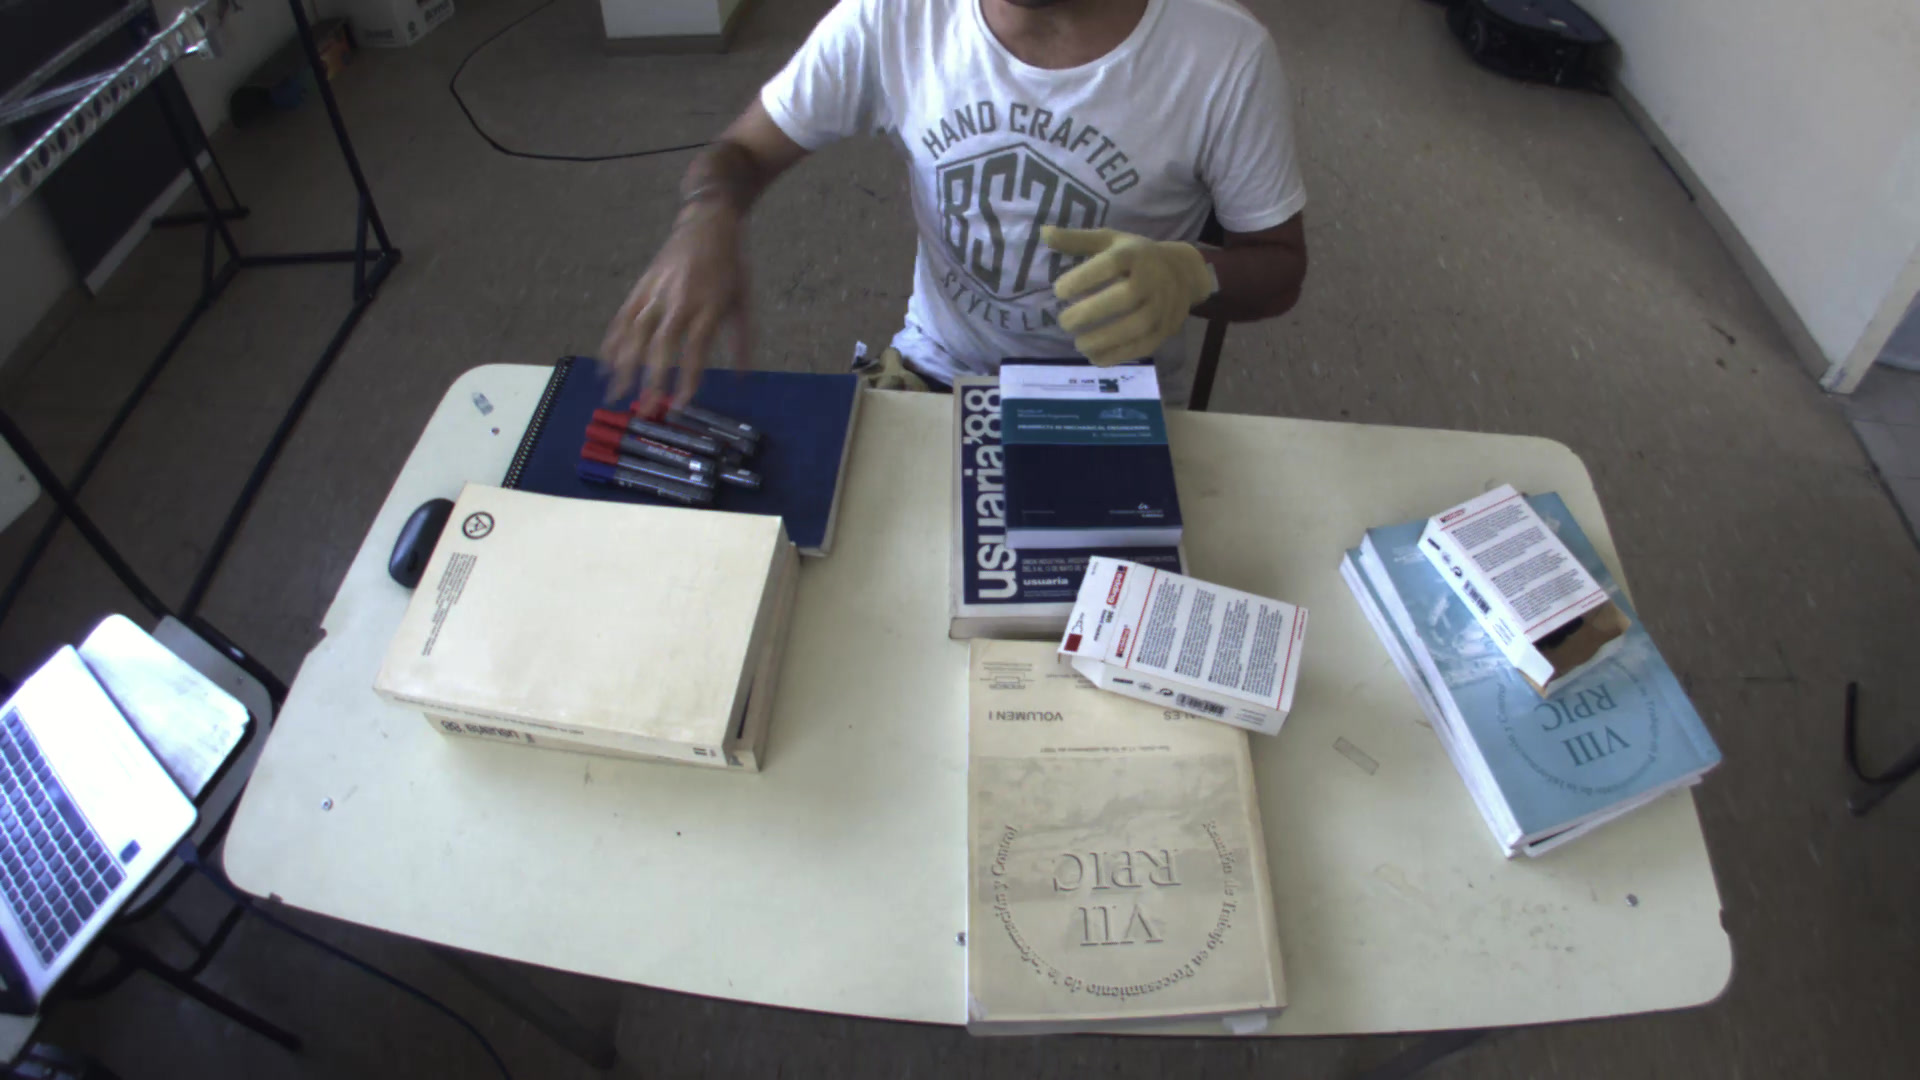hand: (585, 193, 756, 418), (1027, 208, 1226, 365)
